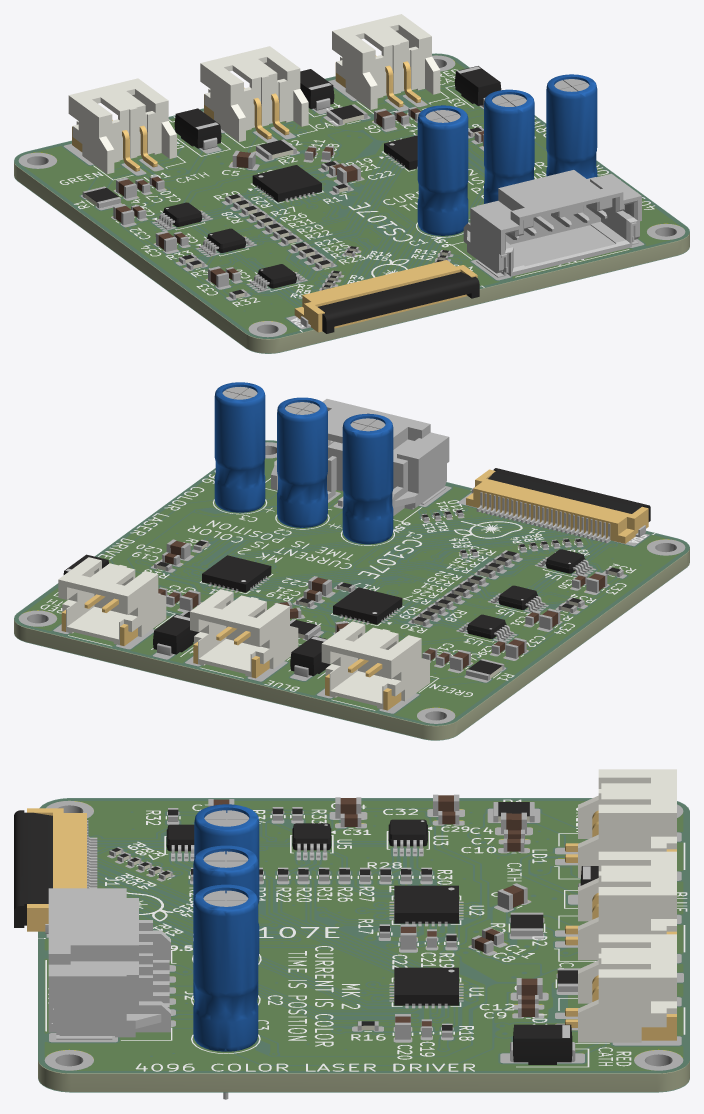
File: laserdriver.glb
3 views of the same model, one above another, from view 1: azimuth 30°, elevation 25°; view 2: azimuth 150°, elevation 25°; view 3: azimuth 270°, elevation 25° (orthographic). The views are drawn at different scales.
Visible parts, largest first — view 1: laserdriver; view 2: laserdriver; view 3: laserdriver.
Boxes of the visible parts, bbox=[...] form: laserdriver: bbox=[14, 14, 689, 353]; laserdriver: bbox=[14, 382, 689, 740]; laserdriver: bbox=[14, 769, 689, 1099].
Bounding box in the file's own units: 0.05 × 0.0168 × 0.0519.
